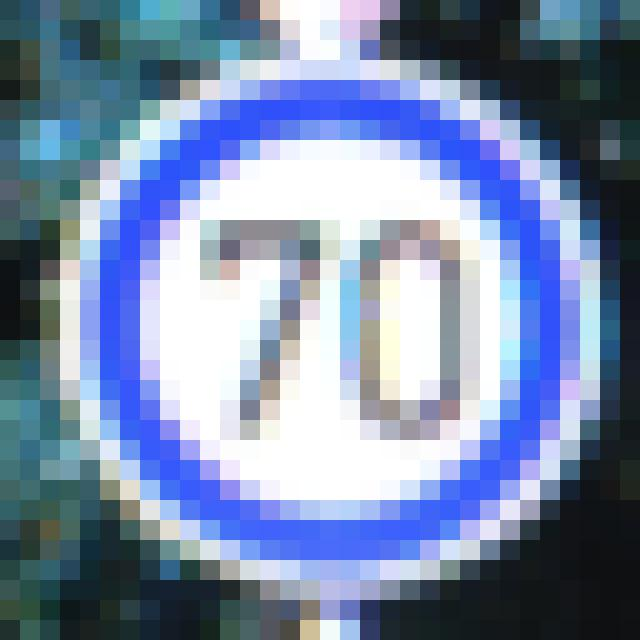SPEED LIMIT 70: (61, 72, 600, 590)
